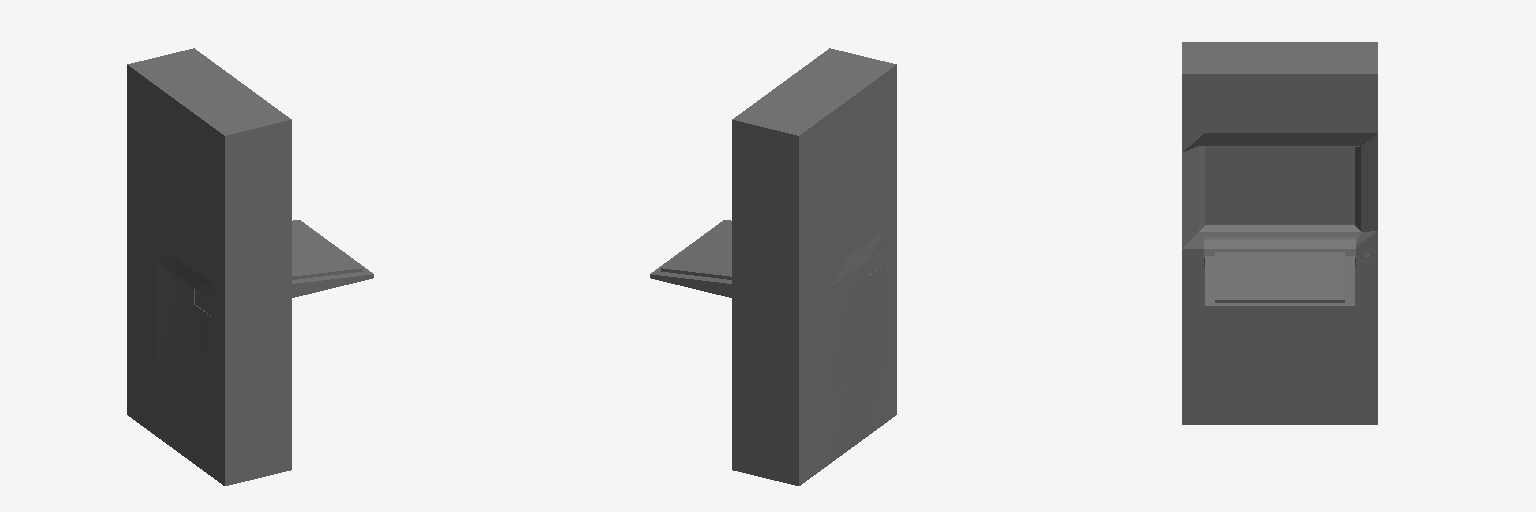
Rendered from Terminal.obj.
3 views of the same model, side by side, from view 1: azimuth 30°, elevation 25°; view 2: azimuth 150°, elevation 25°; view 3: azimuth 270°, elevation 25° (orthographic).
Parts seen in each view (by area): view 1: Terminal; view 2: Terminal; view 3: Terminal.
Part boxes in pixels (bbox=[...]): Terminal: bbox=[127, 48, 373, 485]; Terminal: bbox=[650, 48, 896, 485]; Terminal: bbox=[1182, 42, 1377, 424].
Size of the model in its own units: 1.92 by 3.97 by 2.